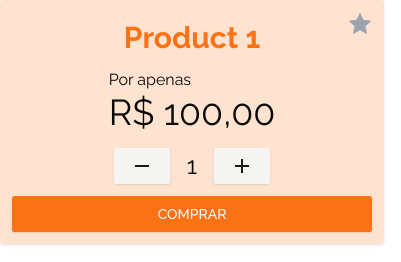
BuyProductCard Component › increases quantity when add button is clicked
Step 1. Click the button with test id "add-button" → [242, 166], box [214,148,270,184]
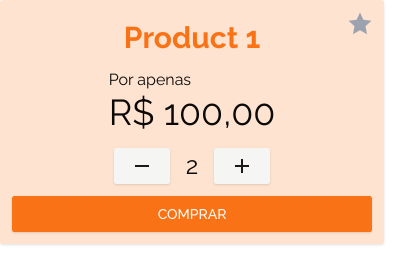
Expected: the heading with test id "quantity-display" reads "2", [186,151,198,180]
